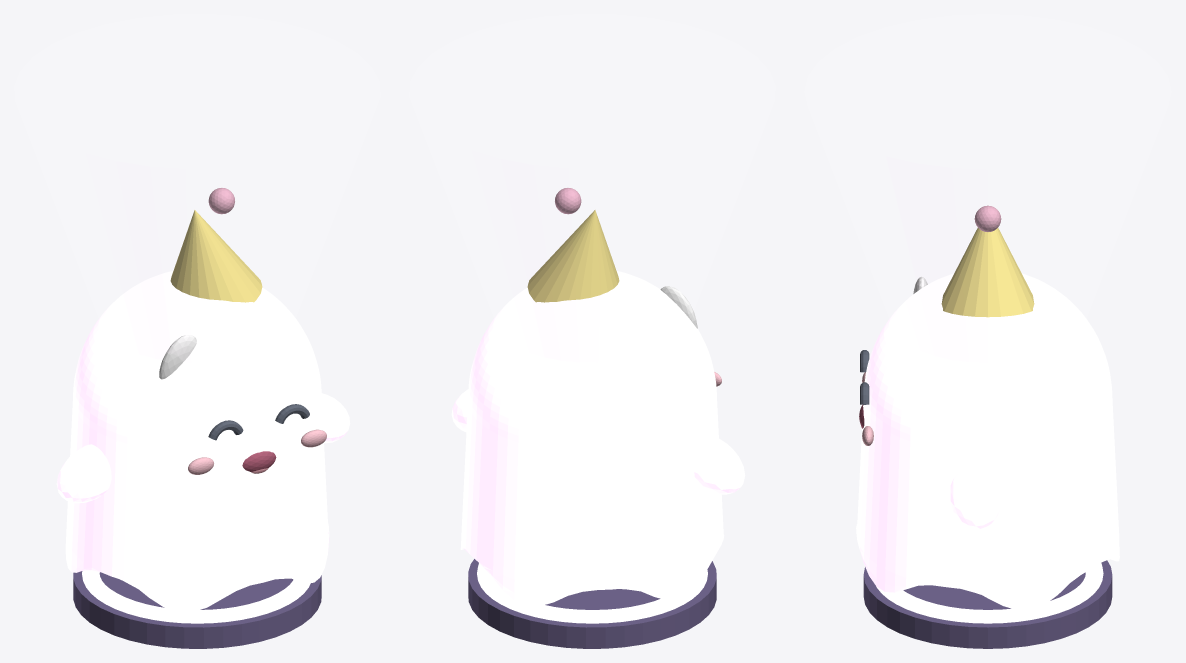
File: ghost-holo-1.glb
3 renders of one model, left to right at view 1: azimuth 30°, elevation 25°; view 2: azimuth 150°, elevation 25°; view 3: azimuth 270°, elevation 25°, orthographic.
Parts seen in each view (by area): view 1: dancer, holo_base, light_holo_ring; view 2: dancer, holo_base, light_holo_ring; view 3: dancer, holo_base, light_holo_ring.
Part boxes in pixels (x1=…): dancer: x1=56, y1=188, x2=350, y2=612; holo_base: x1=73, y1=571, x2=321, y2=648; light_holo_ring: x1=82, y1=570, x2=310, y2=623; dancer: x1=451, y1=188, x2=745, y2=606; holo_base: x1=468, y1=559, x2=716, y2=648; light_holo_ring: x1=477, y1=563, x2=707, y2=623; dancer: x1=856, y1=205, x2=1119, y2=610; holo_base: x1=863, y1=560, x2=1112, y2=648; light_holo_ring: x1=876, y1=563, x2=1103, y2=623.
Bounding box in the file's own units: 1.24 × 1.88 × 1.24.
